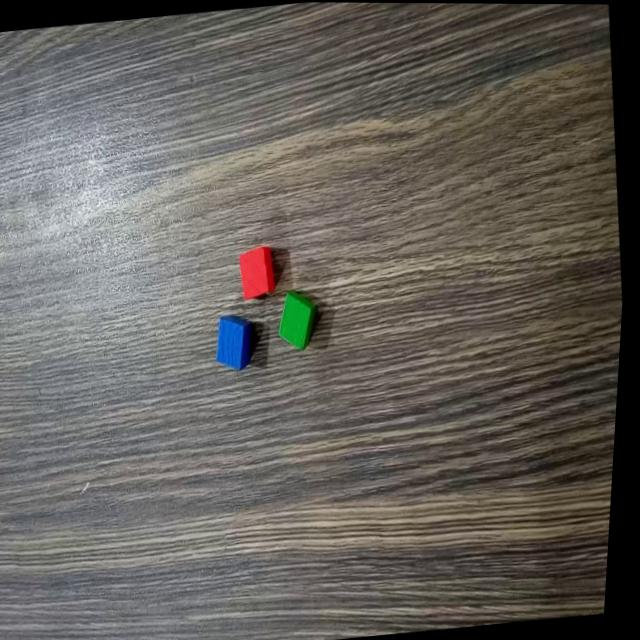cube: (275, 281, 329, 358), (212, 305, 260, 373), (236, 240, 283, 303)
